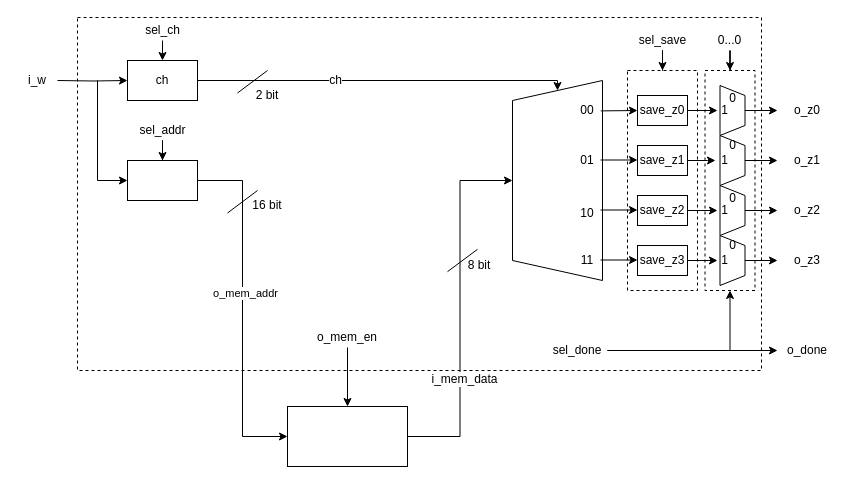
This 854x484 diagram has some shape labels left out. The shapes that lost their labels are listed below. From the top down, each one's box as (x1, y1, x2, y2) in pixels, then its label:
(126, 160, 198, 200): addr
(286, 406, 408, 466): Memoria
